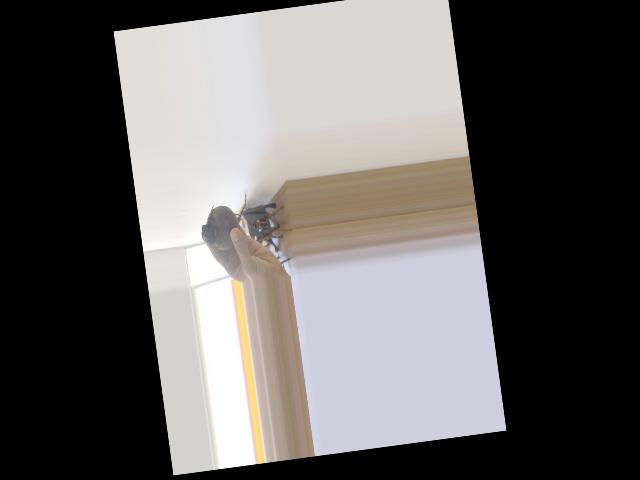beet: (196, 190, 253, 252)
